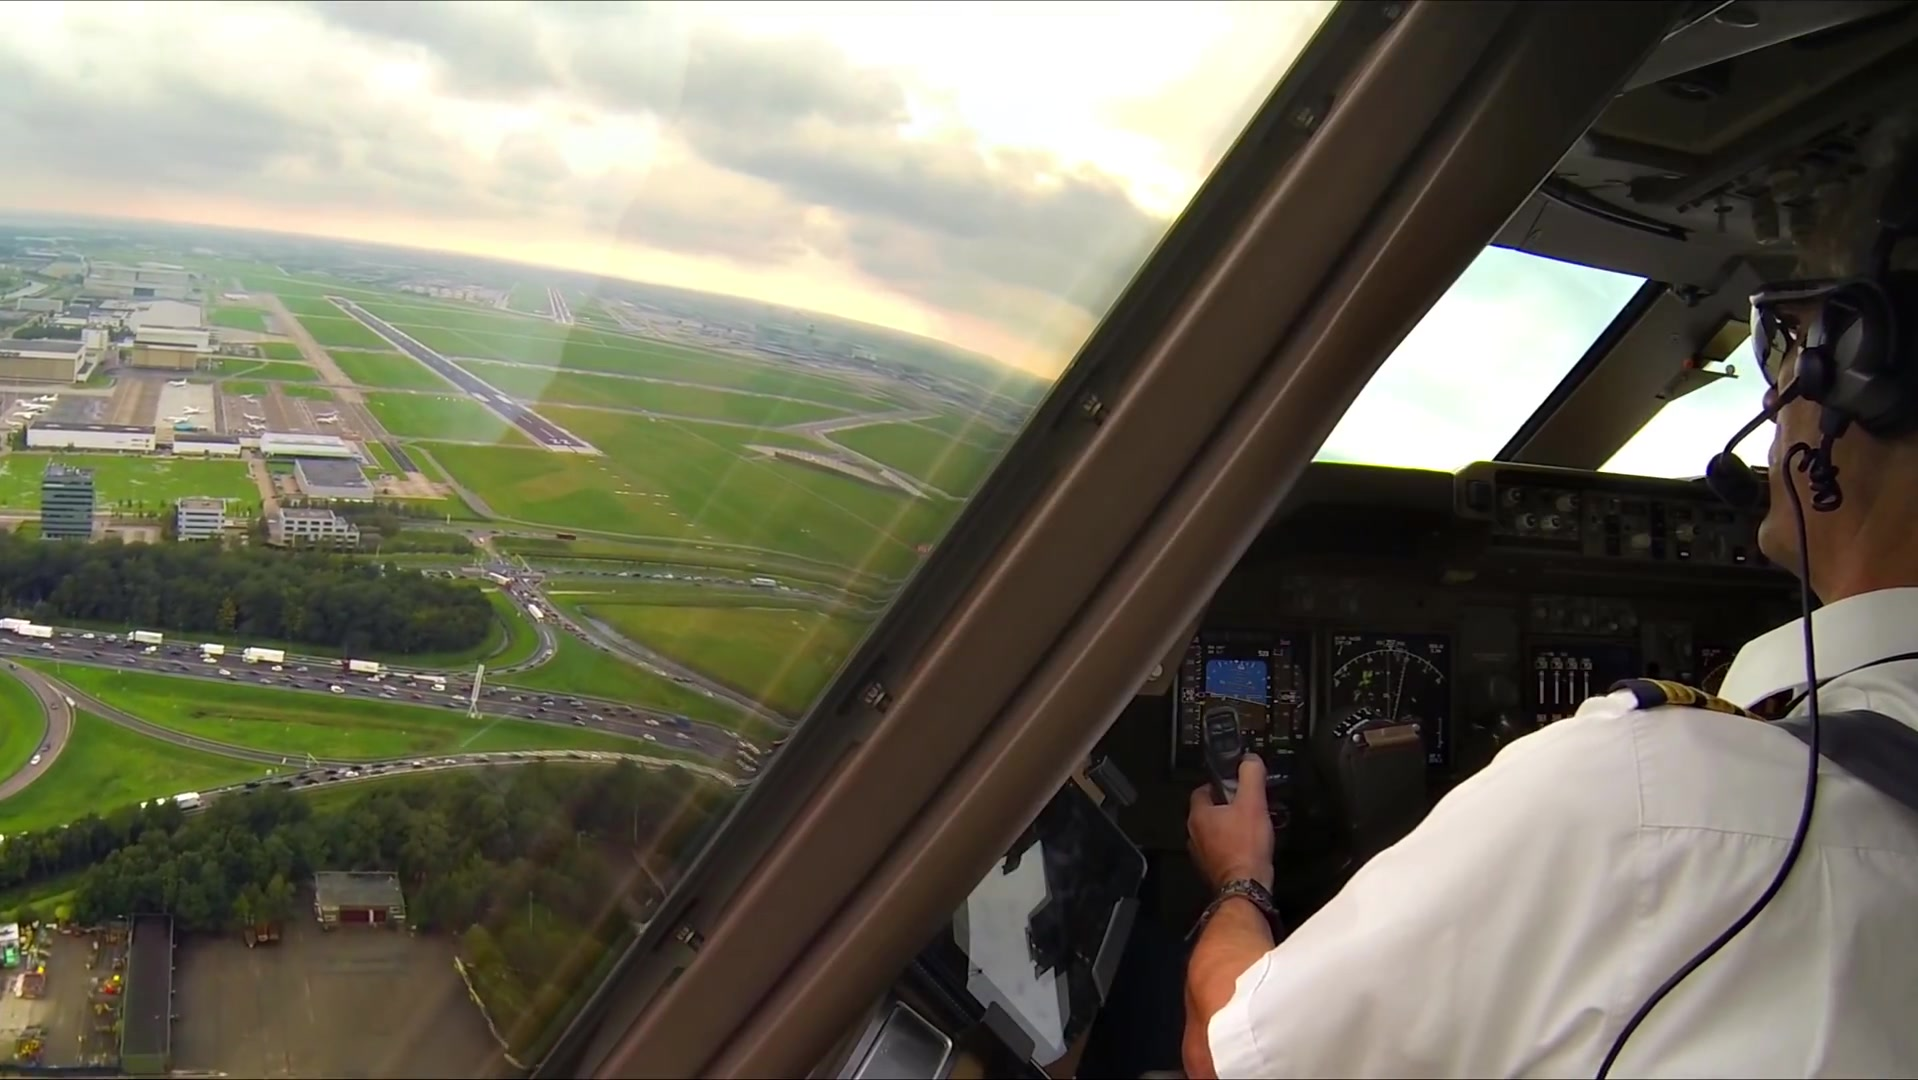entrance: (534, 440, 598, 458)
runway: (324, 298, 609, 464), (541, 284, 588, 331)
